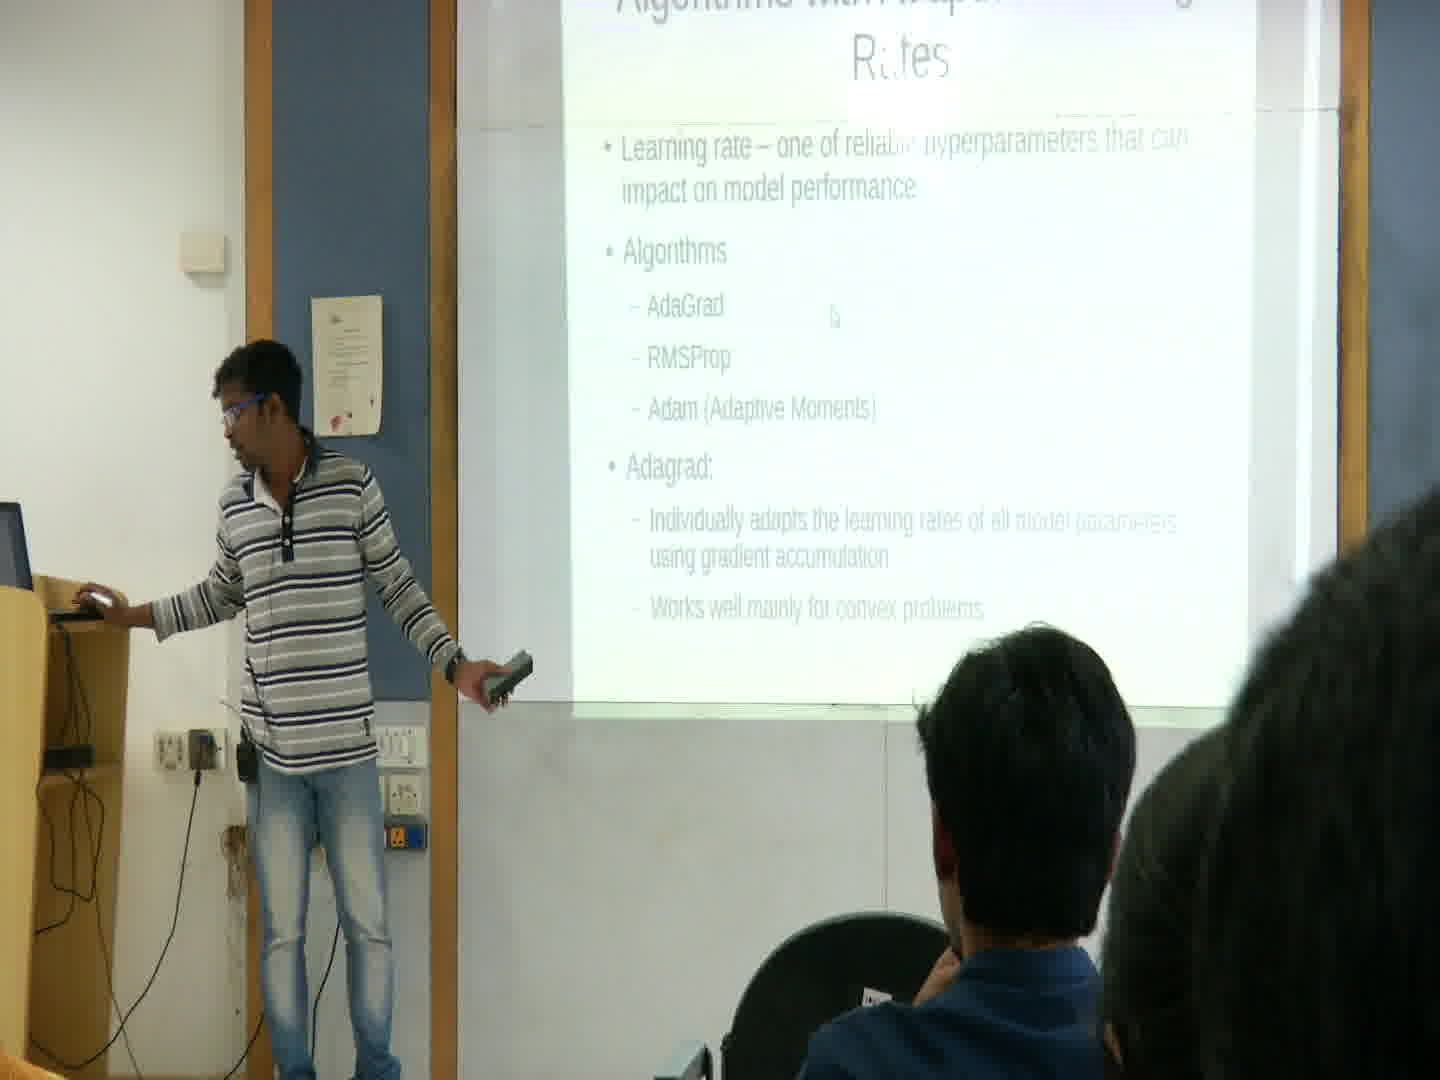slide: (559, 2, 1248, 728)
